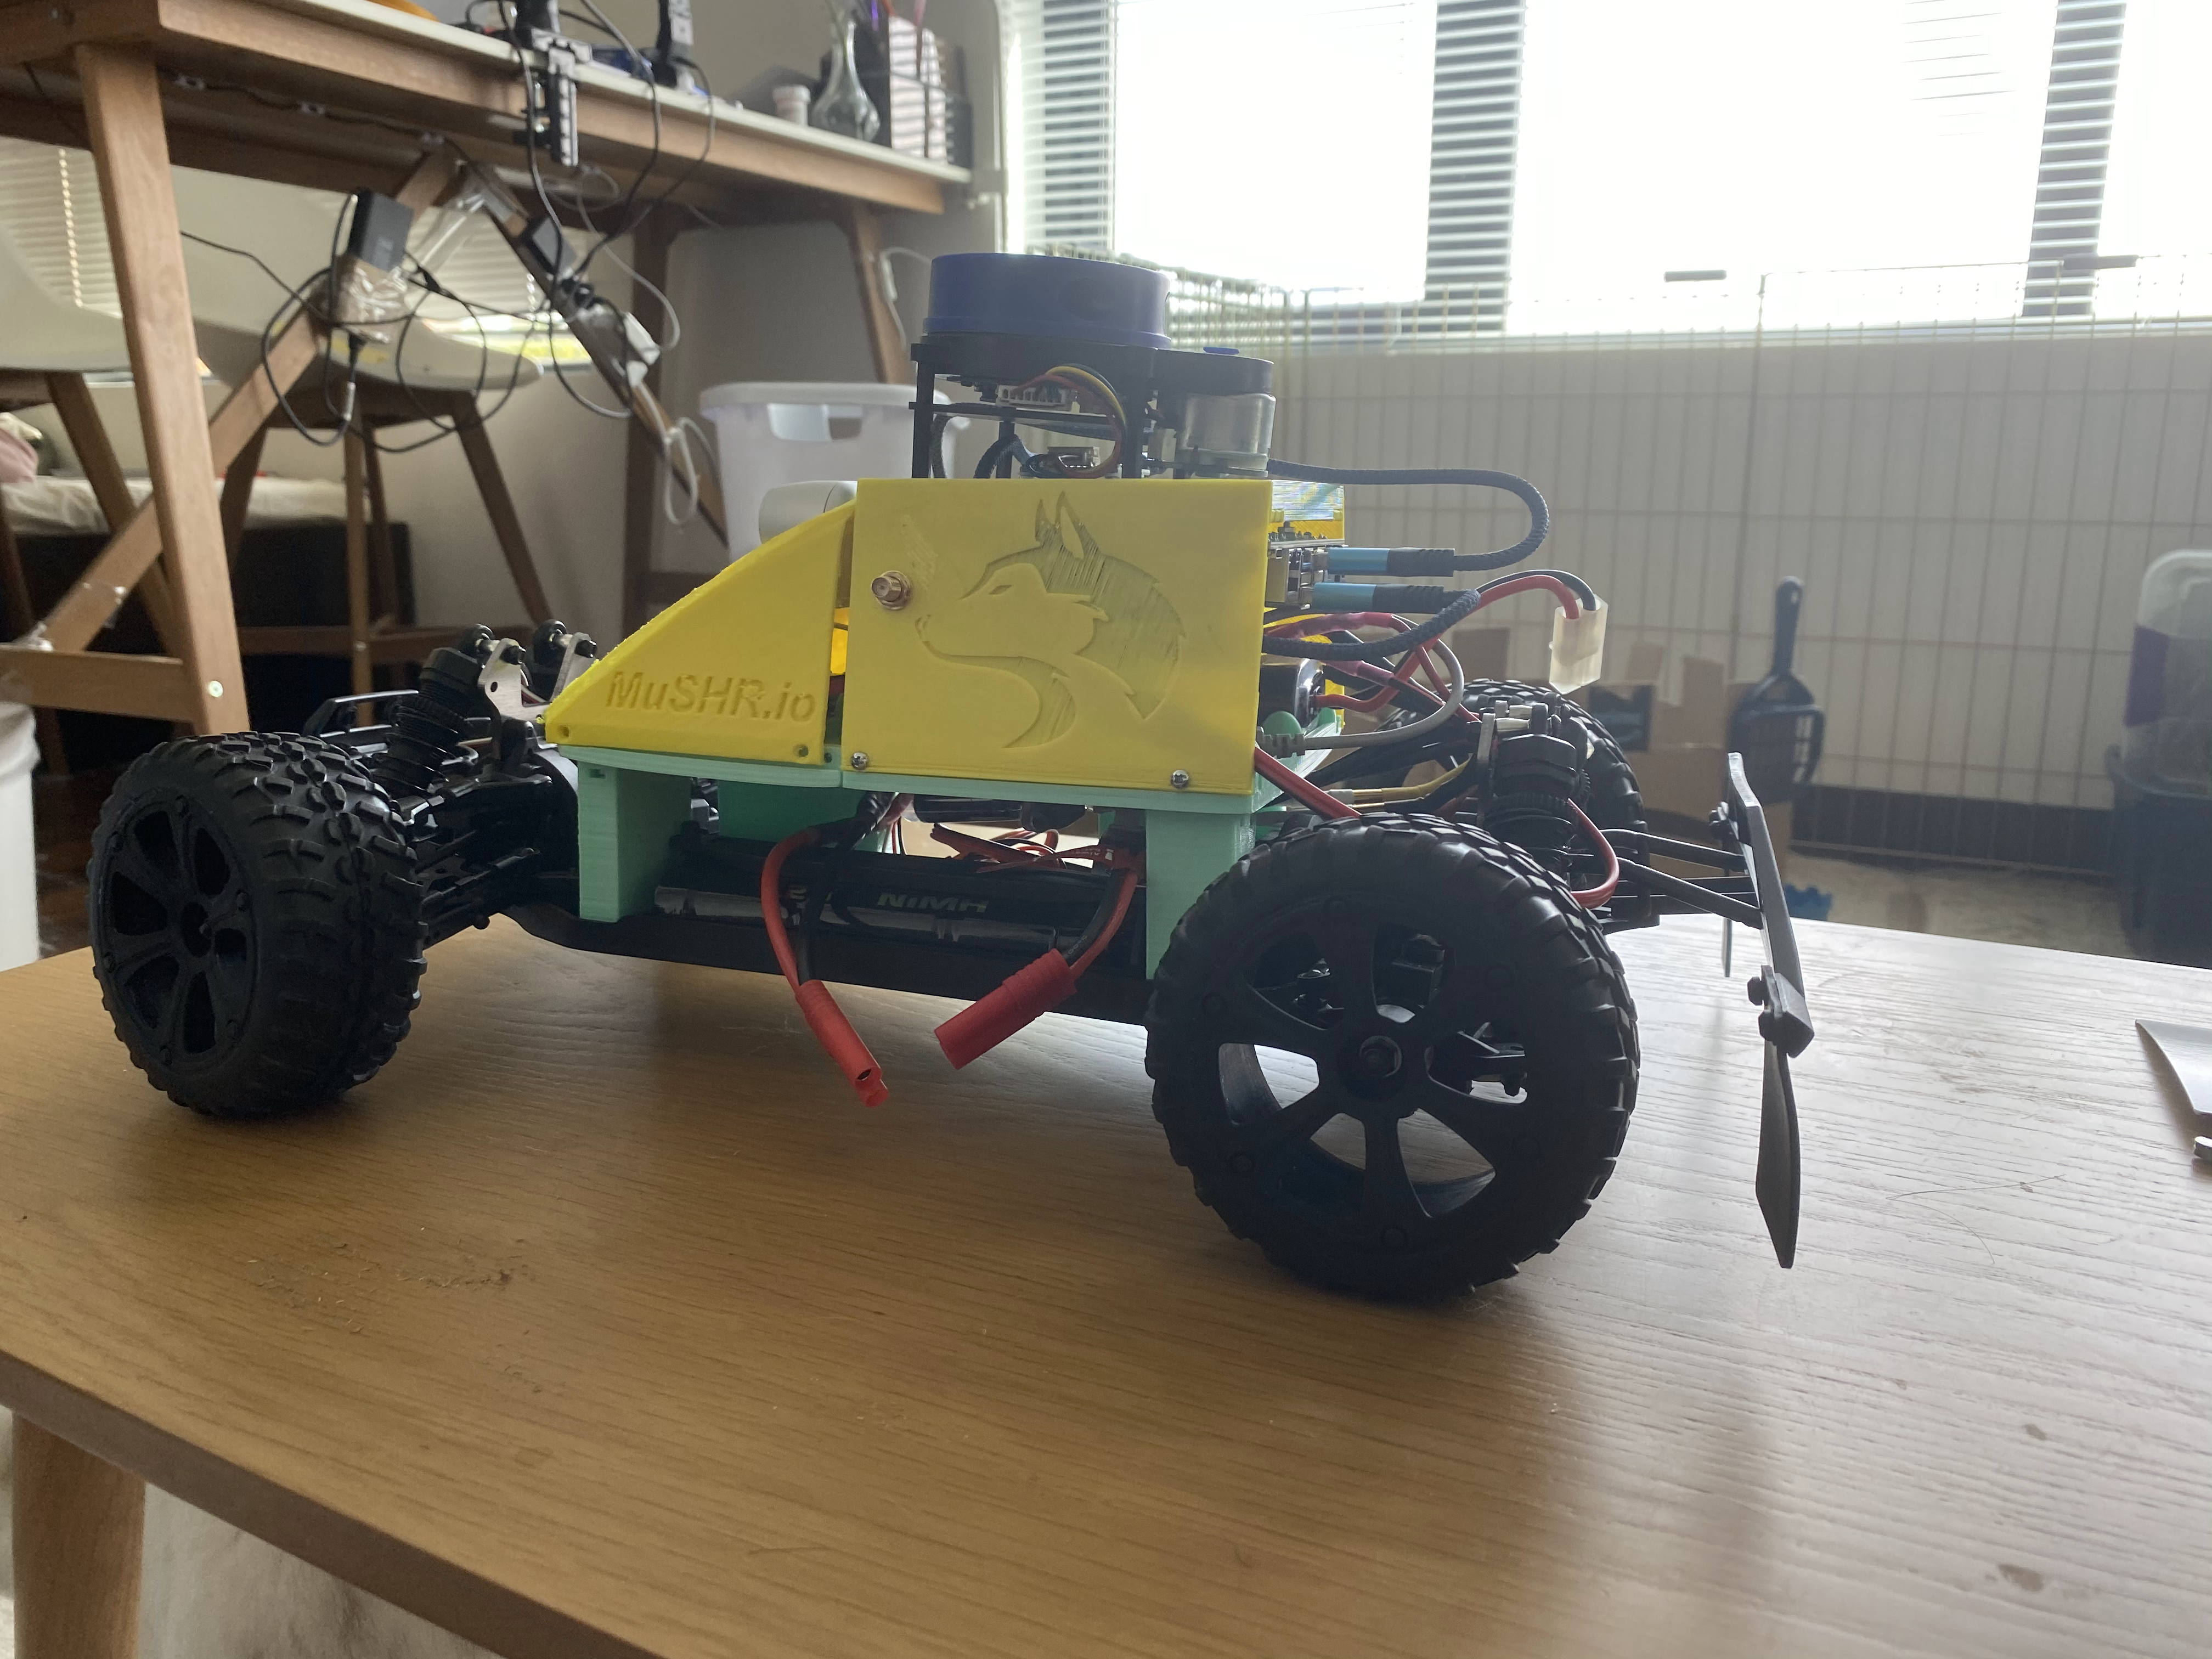mushr_car: (38, 228, 1820, 1328)
